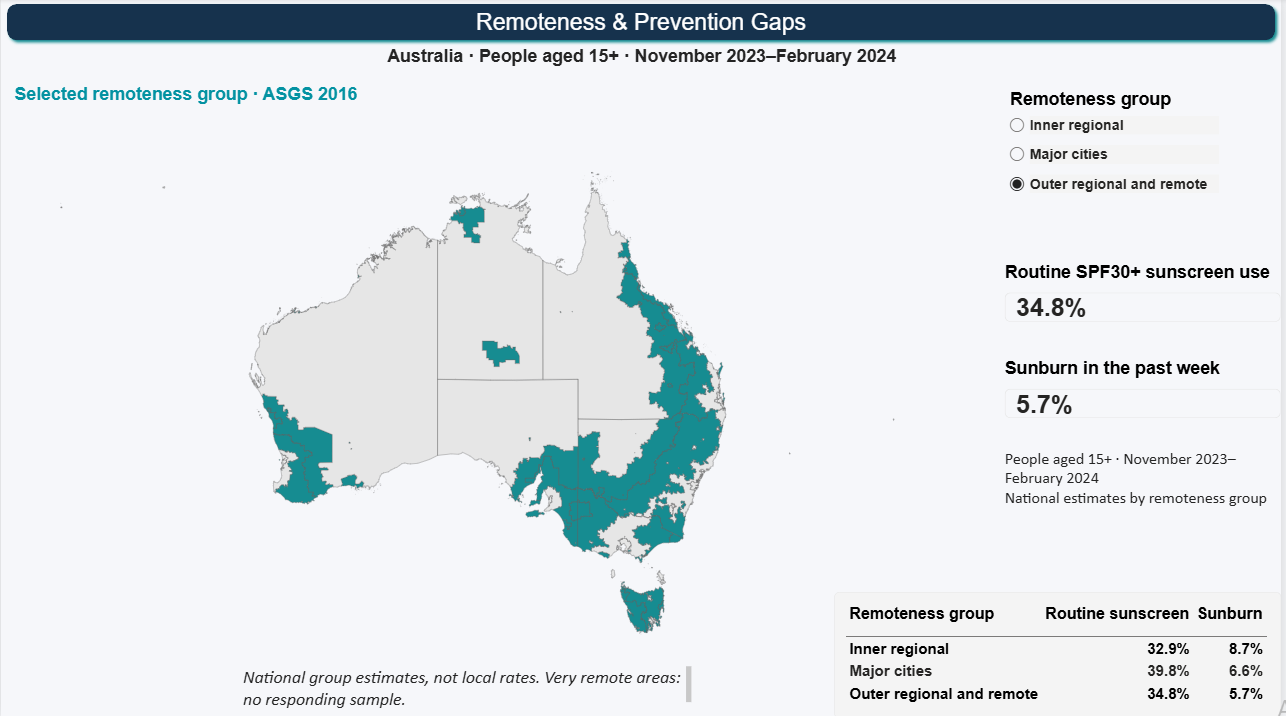

This screenshot's page, from the dashboard's own definition file:
{"tool":"powerbi","page":{"name":"Remoteness & Prevention Gaps","canvas":[1920,1080],"ordinal":3},"visuals":[{"type":"slicer","fields":{"Values":["SunProtection.Category"]},"box":[1505.9,136.2,321.8,193.9],"z":0},{"type":"cardVisual","title":"Routine SPF30+ sunscreen use","fields":{"Data":["SunProtection.Selected Remoteness Sunscreen %"]},"box":[1505.9,396.1,414.6,90.8],"z":1000},{"type":"cardVisual","title":"Sunburn in the past week","fields":{"Data":["SunProtection.Selected Remoteness Sunburn %"]},"box":[1505.9,540.5,414.6,90.8],"z":2000},{"type":"textbox","box":[1505.9,676.6,414.6,97],"z":3000},{"type":"tableEx","fields":{"Values":["SunProtection.Category","SunProtection.Sunscreen by Remoteness %","SunProtection.Sunburn by Remoteness %"]},"box":[1250.1,891.2,670.4,189.8],"z":4000},{"type":"shapeMap","title":"Selected remoteness group · ASGS 2016","fields":{"Category":["SunProtection.Category"],"Value":["SunProtection.Sunscreen by Remoteness %"]},"box":[4.1,115.5,1421.3,940.7],"z":5000},{"type":"textbox","box":[363.1,1002.6,672.5,66],"z":6000},{"type":"shape","box":[0,0,1920.6,72.2],"z":6001},{"type":"textbox","box":[546.7,72.2,829.3,41.3],"z":6002}]}

Visuals, with their boxes in screenshot pixels (x1, y1, x2, y2), scaled from the page's 1920x1080 canvas onto the 1286x716 screenshot:
slicer - SunProtection.Category: (x1=1009, y1=90, x2=1224, y2=219)
"Routine SPF30+ sunscreen use" cardVisual: (x1=1009, y1=263, x2=1285, y2=323)
"Sunburn in the past week" cardVisual: (x1=1009, y1=358, x2=1285, y2=419)
textbox: (x1=1009, y1=449, x2=1285, y2=513)
tableEx - SunProtection.Category x SunProtection.Sunscreen by Remoteness %: (x1=837, y1=591, x2=1285, y2=715)
"Selected remoteness group · ASGS 2016" shapeMap: (x1=3, y1=77, x2=955, y2=700)
textbox: (x1=243, y1=665, x2=694, y2=708)
shape: (x1=0, y1=0, x2=1285, y2=48)
textbox: (x1=366, y1=48, x2=922, y2=75)
